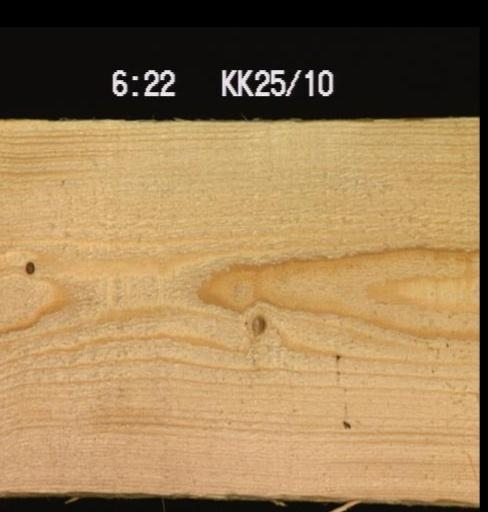dry_knot: (21, 258, 35, 275)
sound_knot: (246, 312, 266, 336)
